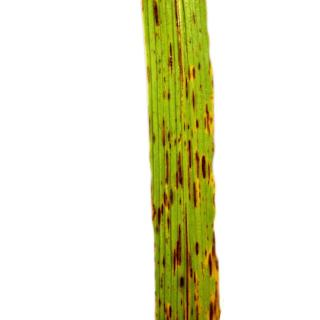Bercak-Cokelat-Sempit: (159, 117, 221, 205), (194, 214, 230, 278), (171, 223, 192, 294), (202, 281, 220, 320), (147, 1, 167, 30), (170, 1, 186, 37), (202, 103, 216, 139), (150, 300, 179, 317), (184, 62, 202, 85), (153, 205, 172, 223), (162, 44, 174, 70), (188, 90, 200, 116), (191, 9, 203, 29)
